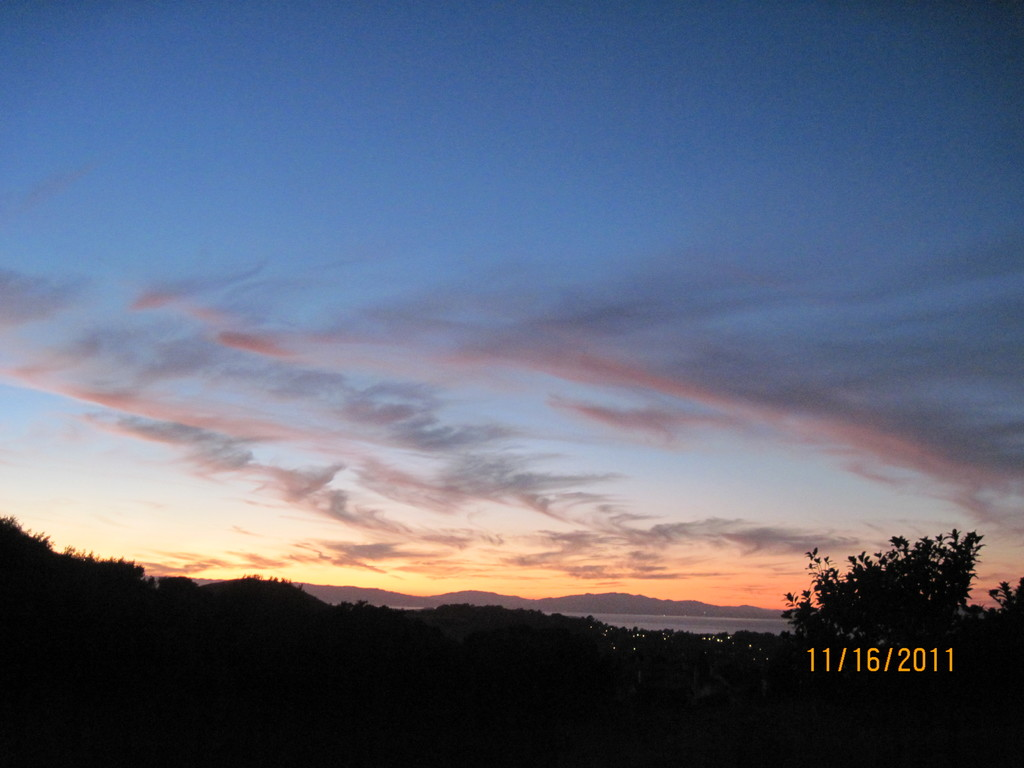Tree: (755, 506, 1024, 689)
